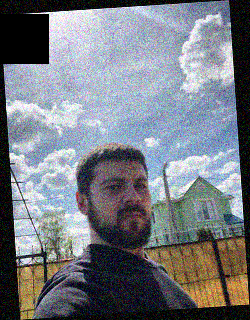without_mask: (98, 170, 153, 251)
